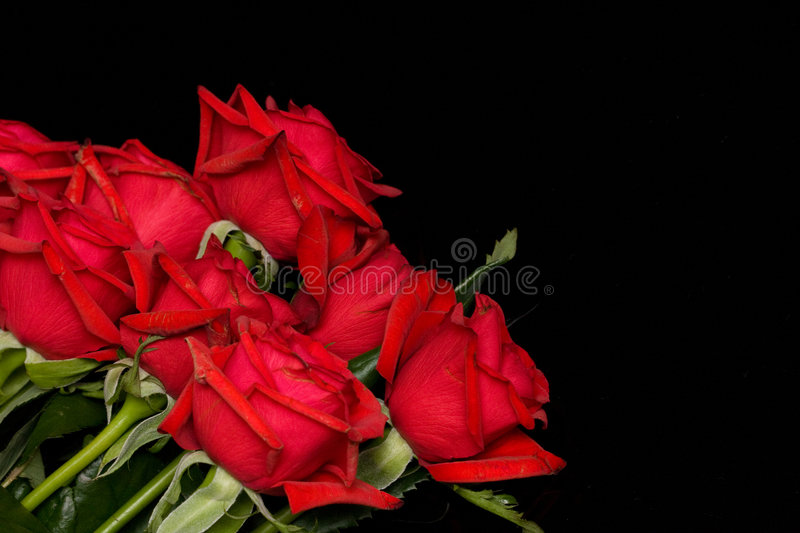RedRose: (11, 163, 215, 331), (412, 298, 545, 468), (190, 101, 333, 223), (144, 256, 280, 373), (245, 353, 334, 501), (287, 247, 408, 351)
